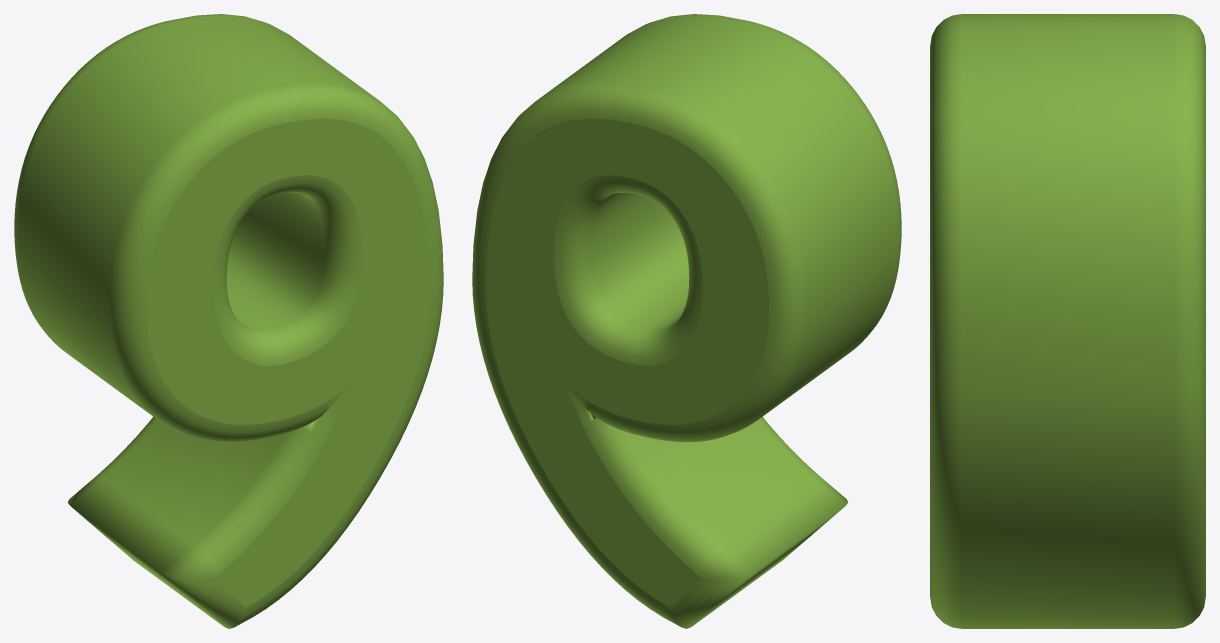
3 renders of one model, left to right at view 1: azimuth 30°, elevation 25°; view 2: azimuth 150°, elevation 25°; view 3: azimuth 270°, elevation 25°, orthographic. The views are drawn at different scales.
Visible parts, largest first — view 1: Text; view 2: Text; view 3: Text.
Part boxes in pixels (x1=…): Text: x1=14, y1=14, x2=443, y2=628; Text: x1=472, y1=14, x2=901, y2=628; Text: x1=930, y1=14, x2=1205, y2=628.
Size of the model in its own units: 41.7 by 63.6 by 26.
